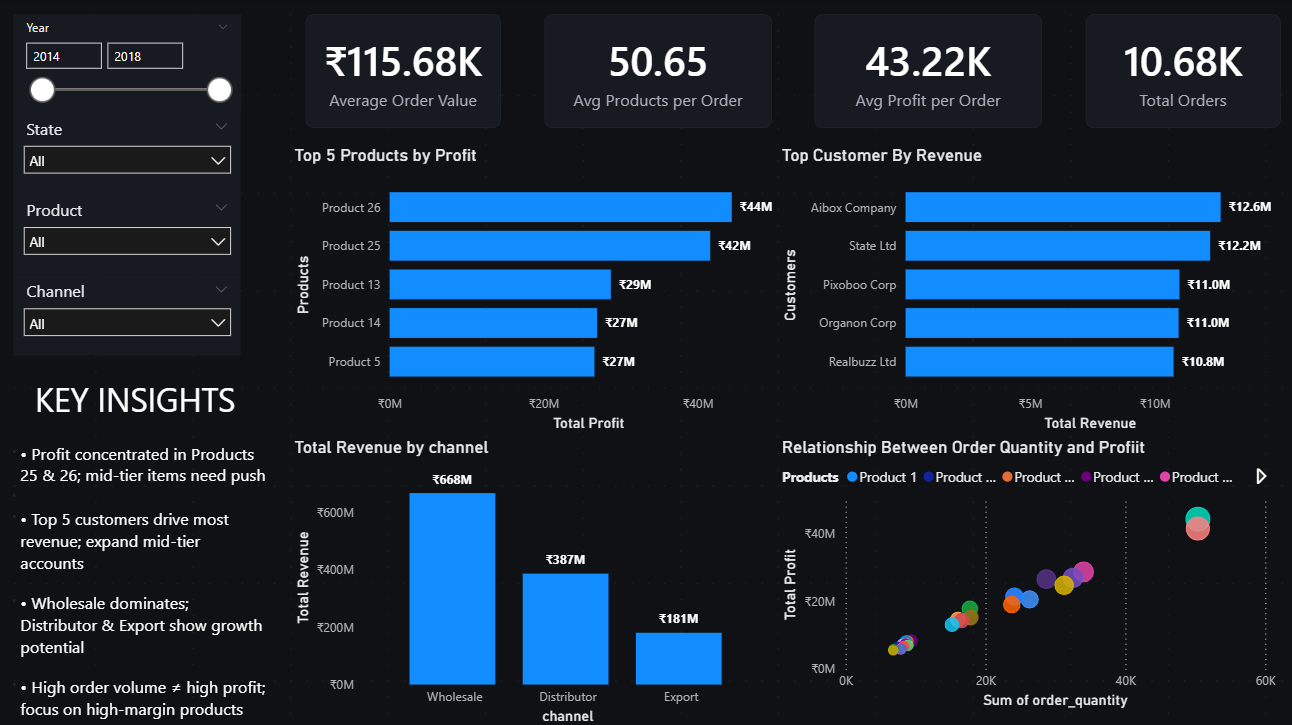

Layout of this report page (visuals, bound fields, positions):
{"tool":"powerbi","page":{"name":"Detailed Analysis","canvas":[1280,720],"ordinal":2},"visuals":[{"type":"card","fields":{"Values":["merged_sales_data.Avg Profit per Order"]},"box":[805.3,16,224,112],"z":0},{"type":"card","fields":{"Values":["merged_sales_data.Avg_Products_per_Order"]},"box":[538.7,16,224,112],"z":1000},{"type":"card","fields":{"Values":["merged_sales_data.Average Order Value"]},"box":[304,16,192,112],"z":2000},{"type":"card","title":"Profit Margin %","fields":{"Values":["merged_sales_data.Total_Orders"]},"box":[1072,16,192,112],"z":3000},{"type":"barChart","title":"Top 5 Products by Profit","fields":{"Category":["merged_sales_data.product_name"],"Y":["merged_sales_data.Total Profit"]},"box":[288,144,512,288],"z":4000},{"type":"slicer","fields":{"Values":["DateTable.Year"]},"box":[16,16,224,96],"z":5000},{"type":"slicer","fields":{"Values":["merged_sales_data.state"]},"box":[16,112,224,80],"z":6000},{"type":"slicer","fields":{"Values":["merged_sales_data.product_name"]},"box":[16,192,224,80],"z":7000},{"type":"scatterChart","title":"Relationship Between Order Quantity and Profiit","fields":{"X":["Sum(merged_sales_data.order_quantity)"],"Y":["merged_sales_data.Total Profit"],"Size":["merged_sales_data.Total Revenue"],"Series":["merged_sales_data.product_name"]},"box":[768,432,496,272],"z":8000},{"type":"barChart","title":"Top Customer By Revenue","fields":{"Y":["merged_sales_data.Total Revenue"],"Category":["merged_sales_data.customer_names"]},"box":[768,144,512,288],"z":9000},{"type":"clusteredColumnChart","fields":{"Y":["merged_sales_data.Total Revenue"],"Category":["merged_sales_data.channel"]},"box":[288,432,480,288],"z":10000},{"type":"slicer","fields":{"Values":["merged_sales_data.channel"]},"box":[16,272,224,80],"z":11000},{"type":"textbox","box":[0,432,272,288],"z":12000},{"type":"textbox","box":[0,368,272,64],"z":13000}]}

Visuals, with their boxes in screenshot pixels (x1, y1, x2, y2), scaled from the page's 1280x720 canvas onto the 1292x725 screenshot:
card - merged_sales_data.Avg Profit per Order: bbox=[813, 16, 1039, 129]
card - merged_sales_data.Avg_Products_per_Order: bbox=[544, 16, 770, 129]
card - merged_sales_data.Average Order Value: bbox=[307, 16, 501, 129]
"Profit Margin %" card: bbox=[1082, 16, 1276, 129]
"Top 5 Products by Profit" barChart: bbox=[291, 145, 807, 435]
slicer - DateTable.Year: bbox=[16, 16, 242, 113]
slicer - merged_sales_data.state: bbox=[16, 113, 242, 193]
slicer - merged_sales_data.product_name: bbox=[16, 193, 242, 274]
"Relationship Between Order Quantity and Profiit" scatterChart: bbox=[775, 435, 1276, 709]
"Top Customer By Revenue" barChart: bbox=[775, 145, 1291, 435]
clusteredColumnChart - merged_sales_data.Total Revenue x merged_sales_data.channel: bbox=[291, 435, 775, 724]
slicer - merged_sales_data.channel: bbox=[16, 274, 242, 354]
textbox: bbox=[0, 435, 275, 724]
textbox: bbox=[0, 371, 275, 435]
